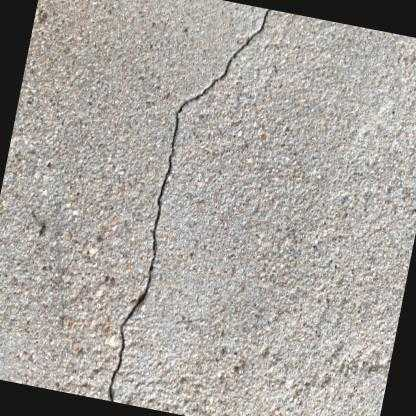crack: (104, 7, 273, 402)
